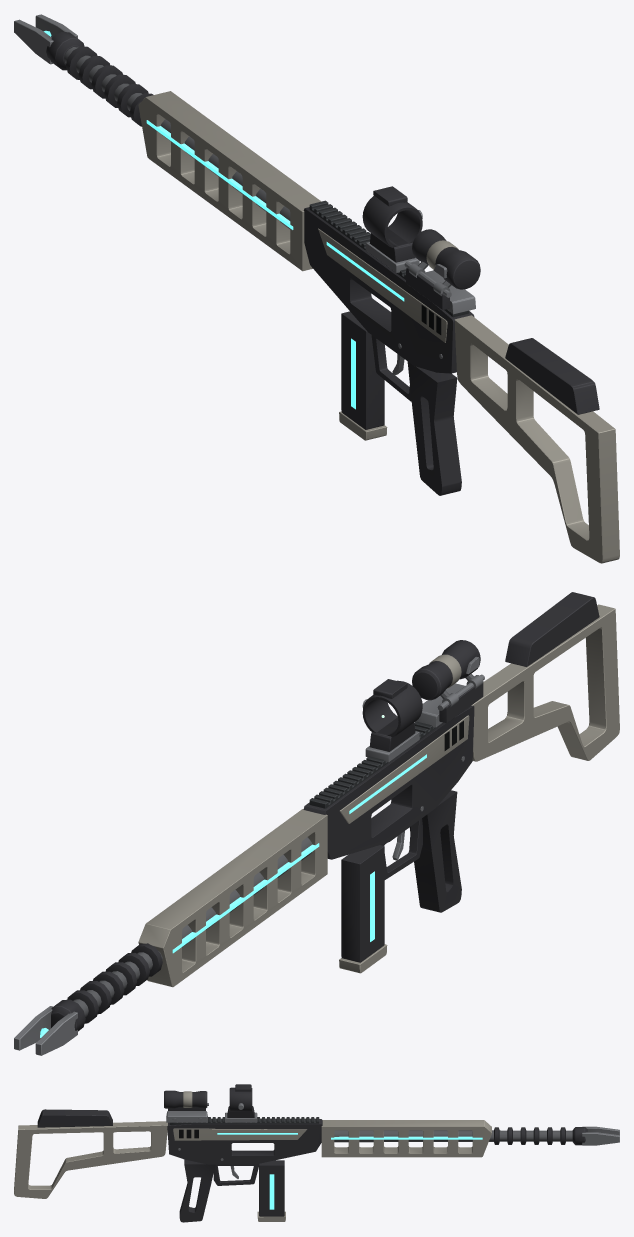
File: e_dmr.glb
3 renders of one model, top to bottom at view 1: azimuth 30°, elevation 25°; view 2: azimuth 150°, elevation 25°; view 3: azimuth 270°, elevation 25°, orthographic. The views are drawn at different scales.
Visible parts, largest first — view 1: Body, ThirdPersonOnly, Cell, Magnifier; view 2: Body, ThirdPersonOnly, Cell, Magnifier; view 3: Body, ThirdPersonOnly, Cell, Magnifier.
Part boxes in pixels (box(x1,y1,x2,y2)): Body: box(14, 14, 475, 495); ThirdPersonOnly: box(455, 315, 619, 563); Cell: box(339, 311, 387, 440); Magnifier: box(408, 229, 480, 295); Body: box(14, 674, 484, 1055); ThirdPersonOnly: box(471, 592, 619, 761); Cell: box(339, 845, 387, 973); Magnifier: box(412, 640, 483, 706); Body: box(166, 1084, 619, 1222); ThirdPersonOnly: box(14, 1109, 167, 1198); Cell: box(257, 1160, 285, 1221); Magnifier: box(164, 1090, 207, 1108).
Size of the model in its own units: 0.0622 by 0.3104 by 1.28.
